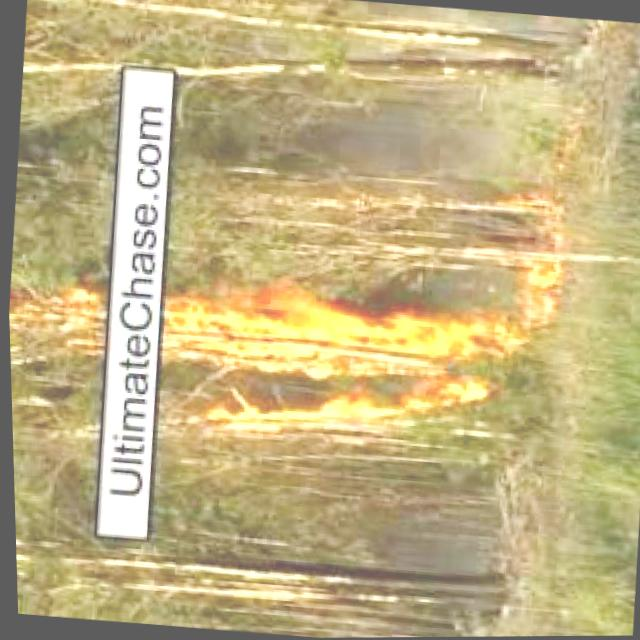helmet: (153, 277, 505, 457), (492, 237, 570, 347), (16, 278, 104, 355)
